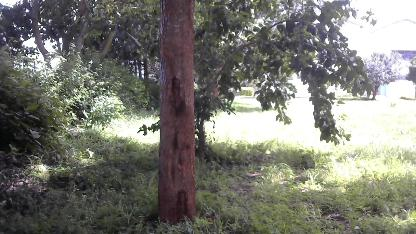tree: (151, 0, 206, 229)
